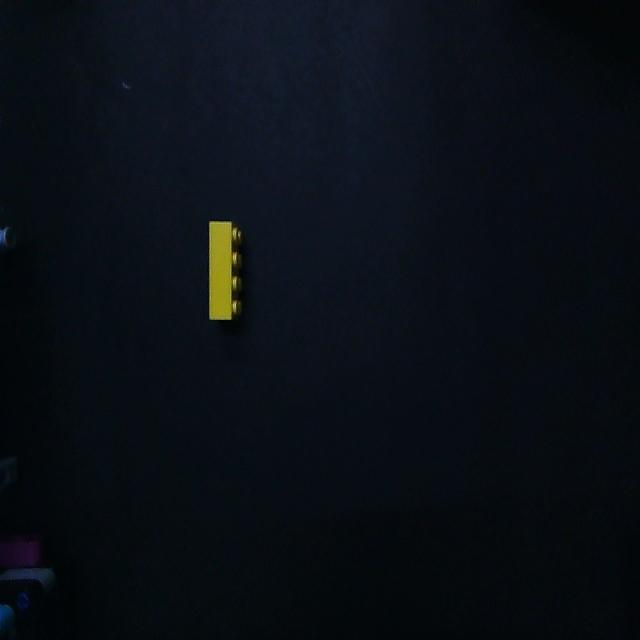lego_brick: (209, 221, 242, 320)
